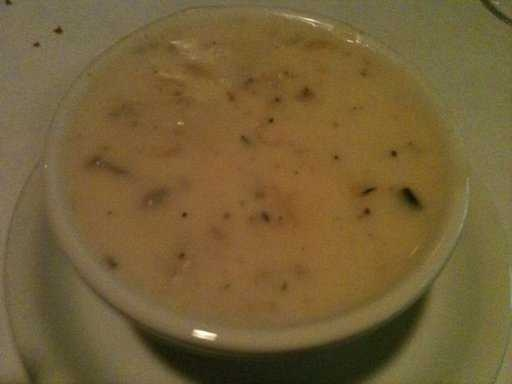soup: (78, 42, 406, 290)
